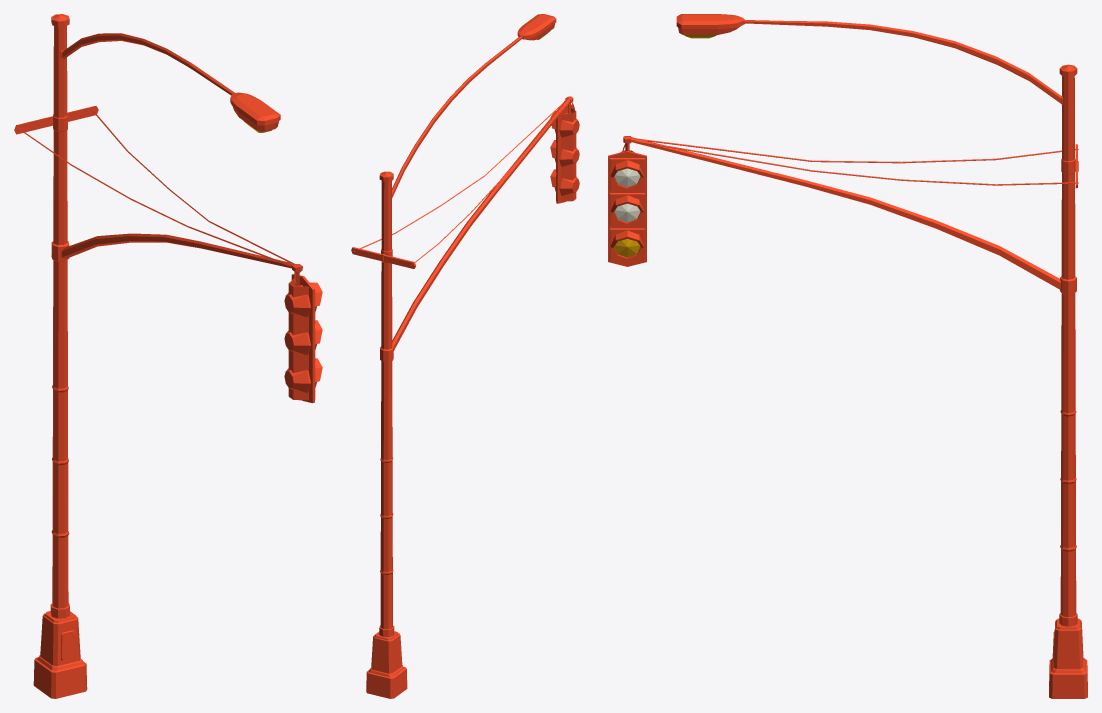
Rendered from SM_Lamp_Light_A_City.fbx.
The picture shows the model from 3 angles, left to right: view 1: azimuth 30°, elevation 25°; view 2: azimuth 150°, elevation 25°; view 3: azimuth 270°, elevation 25°; orthographic projection. The views are drawn at different scales.
Visible parts, largest first — view 1: SM_Lamp_Light_A_City; view 2: SM_Lamp_Light_A_City; view 3: SM_Lamp_Light_A_City.
Part boxes in pixels (x1=…): SM_Lamp_Light_A_City: x1=14, y1=14, x2=322, y2=698; SM_Lamp_Light_A_City: x1=351, y1=14, x2=579, y2=698; SM_Lamp_Light_A_City: x1=608, y1=14, x2=1087, y2=698.
Bounding box in the file's own units: 0.8104 × 6.64 × 4.29.
